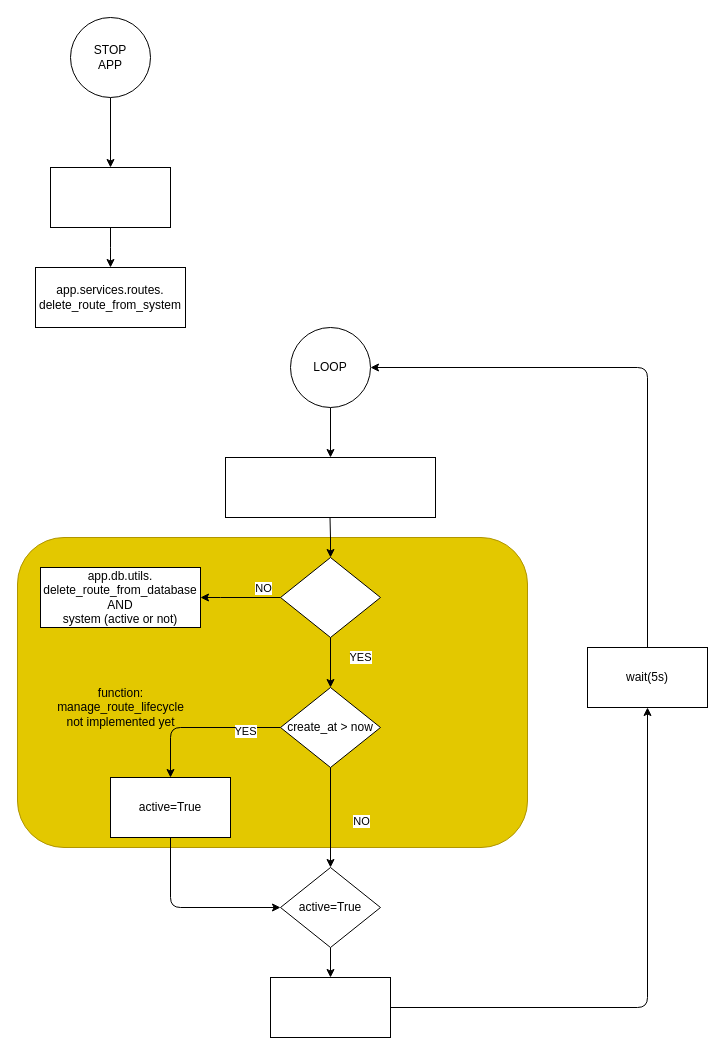
Some shapes in this 725 by 1055 pixel diagram are drawn without their labels. The box of each missing label's shape, as (x1, y1, x2, y2) in pixels:
app.services.routes. add_route_to_system: (270, 976, 390, 1038)
app.services.routes. load_database_routes_to_system: (224, 456, 436, 518)
app.services.routes. load_stored_routes: (50, 166, 170, 228)
delete_at > now: (280, 556, 380, 638)
